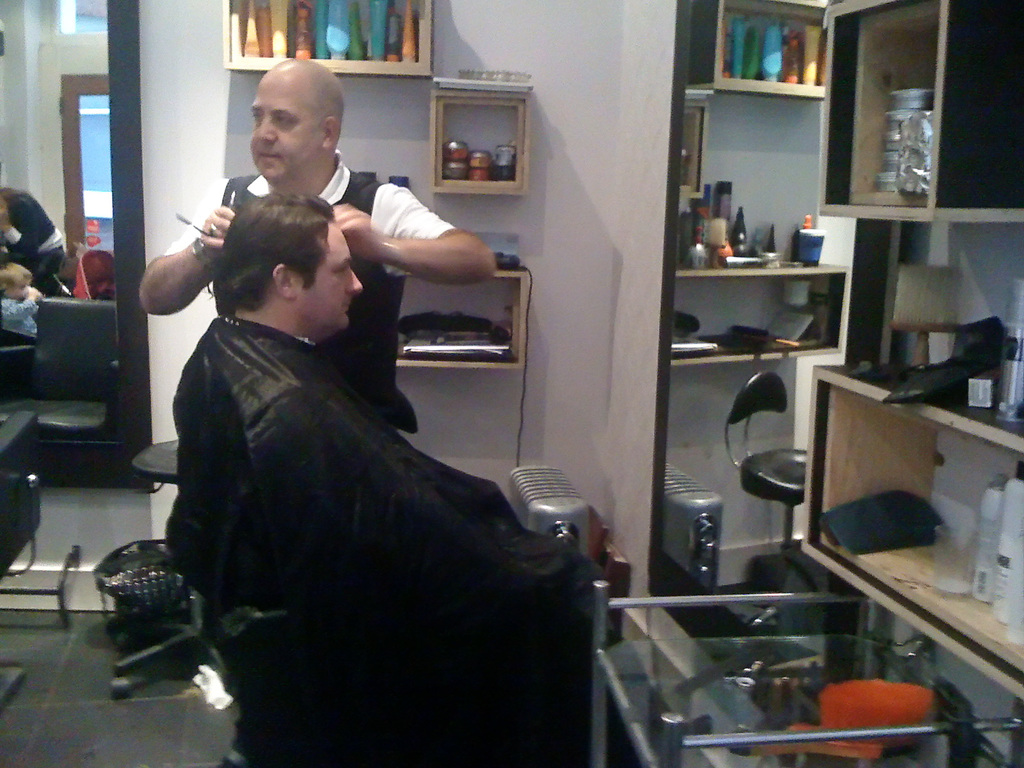person: (136, 57, 498, 432)
